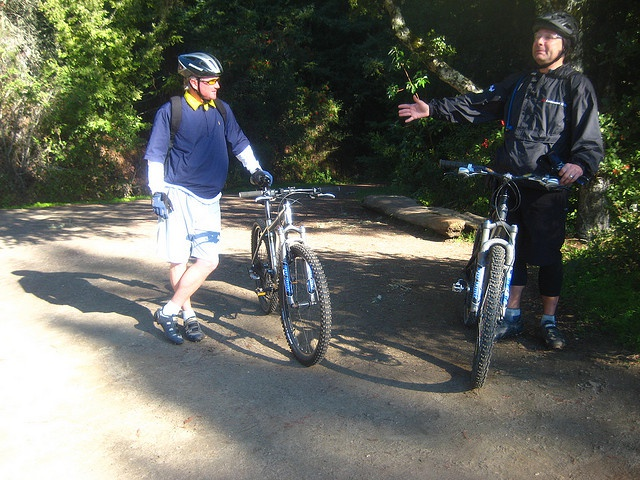non-vehicle: (439, 156, 567, 388), (236, 178, 337, 366)
